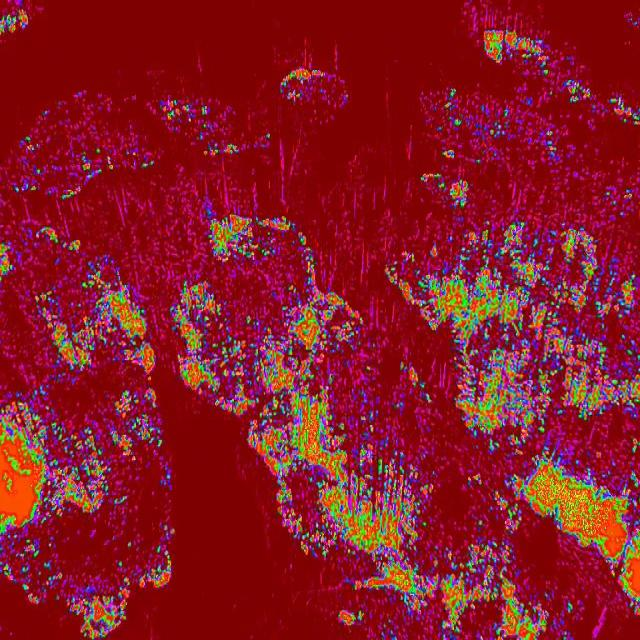fire: (171, 194, 640, 412), (0, 85, 171, 640), (246, 412, 640, 488), (275, 488, 640, 564), (418, 78, 640, 194), (331, 564, 640, 640), (164, 89, 263, 162), (268, 61, 352, 125), (470, 23, 560, 78), (0, 0, 34, 44)
